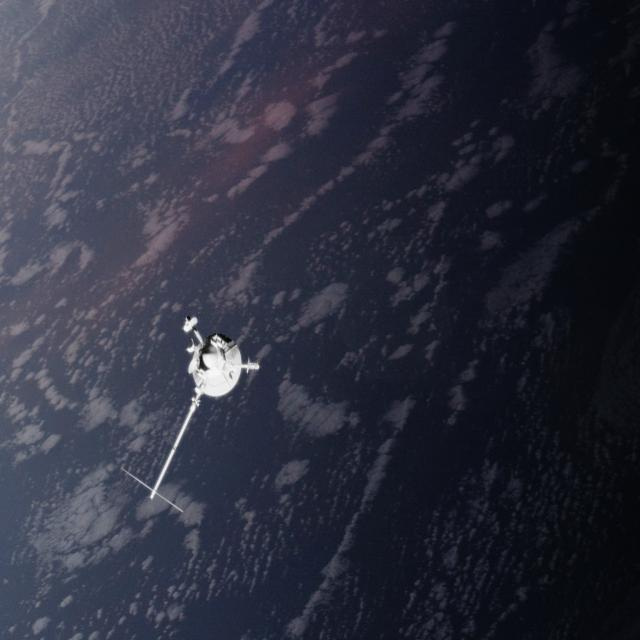satellite: (131, 308, 282, 506)
